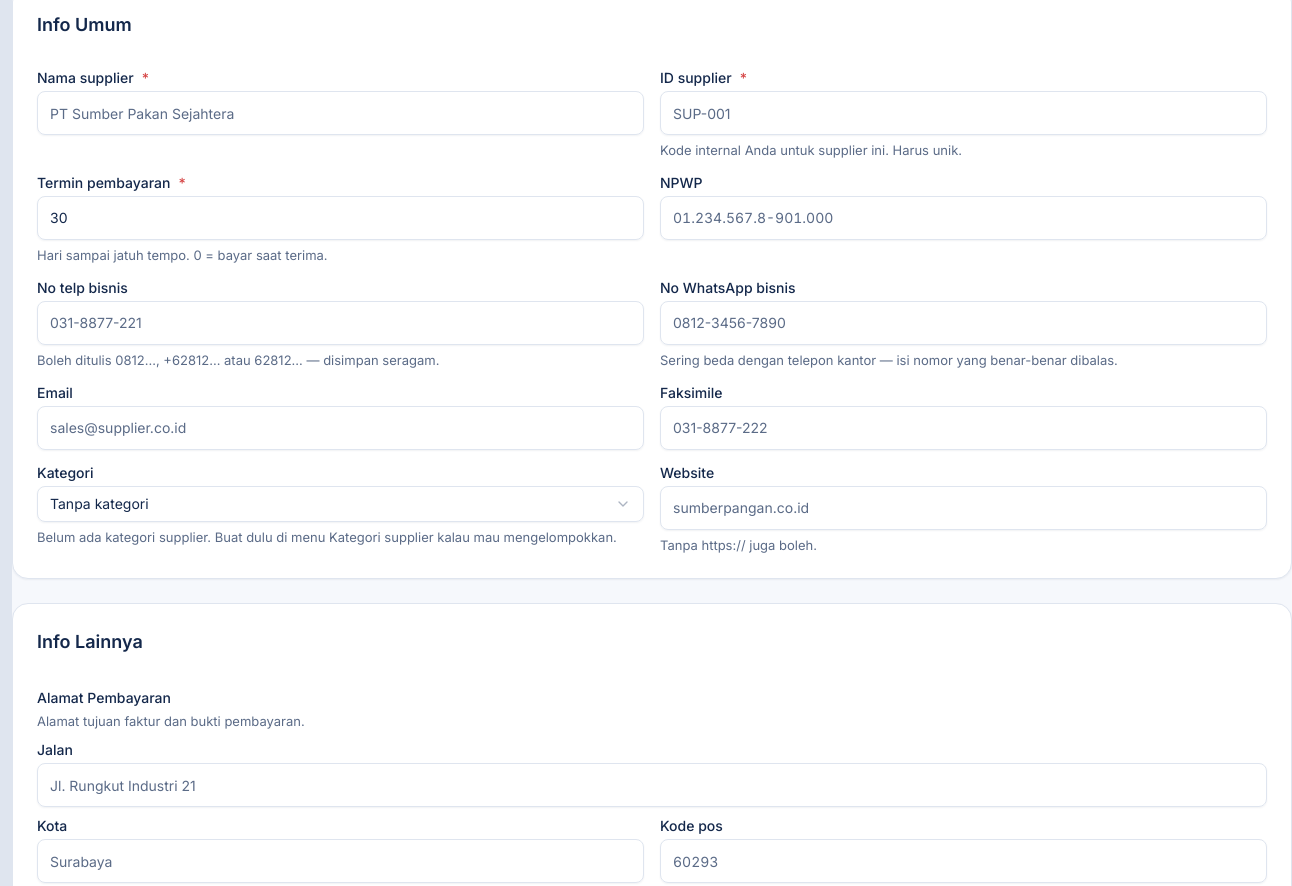
SupplierCreateForm › refuses to submit without an ID supplier
This screenshot has width=1292, height=886.
Note: Name only — the ID is deliberately left blank.
Type "PT Sumber" into the field labelled "Nama supplier *" at (340, 113), box top-left (37, 91), bottom-right (644, 135)
(page scrolled)
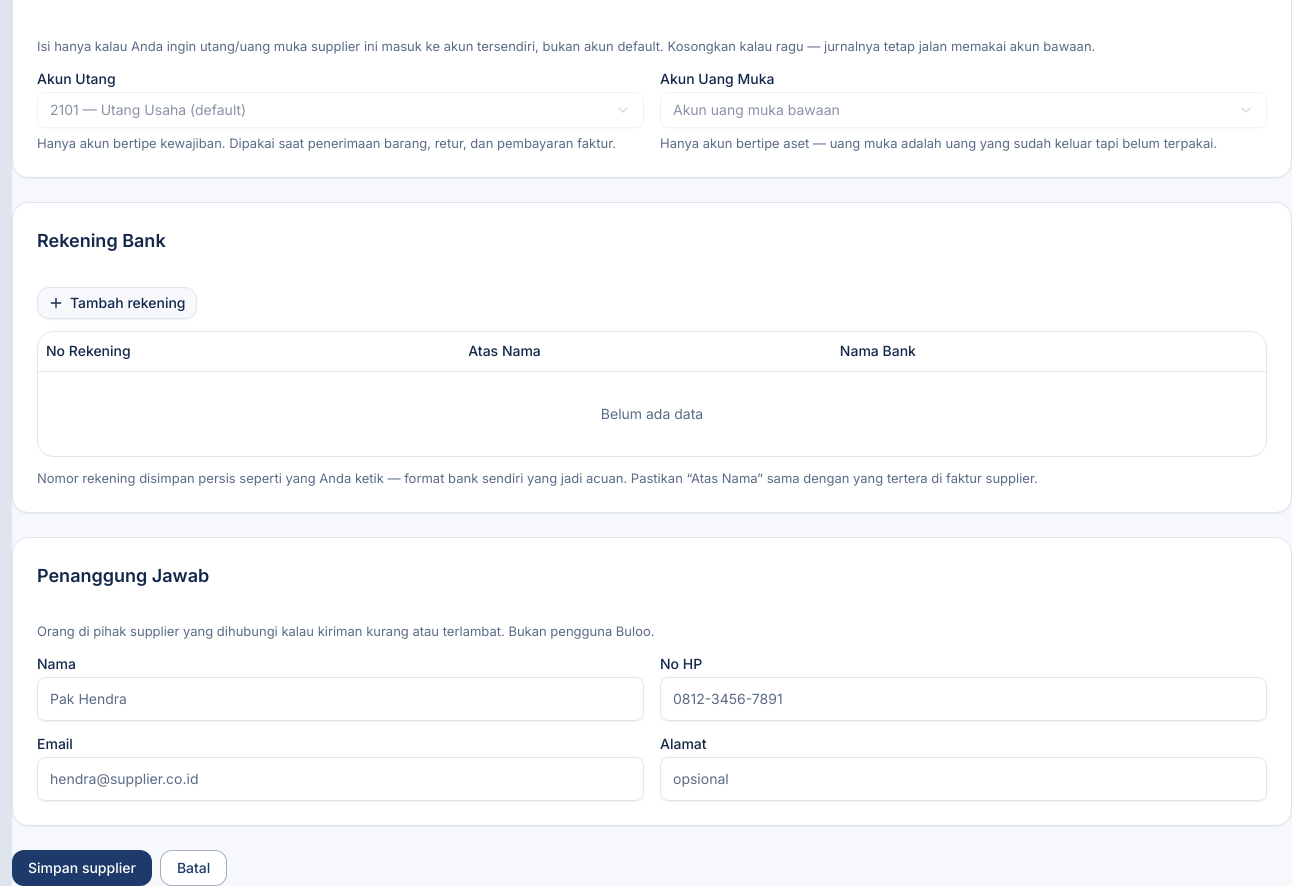
Click the button "Simpan supplier" at (82, 868), box top-left (12, 850), bottom-right (152, 885)
(page scrolled)
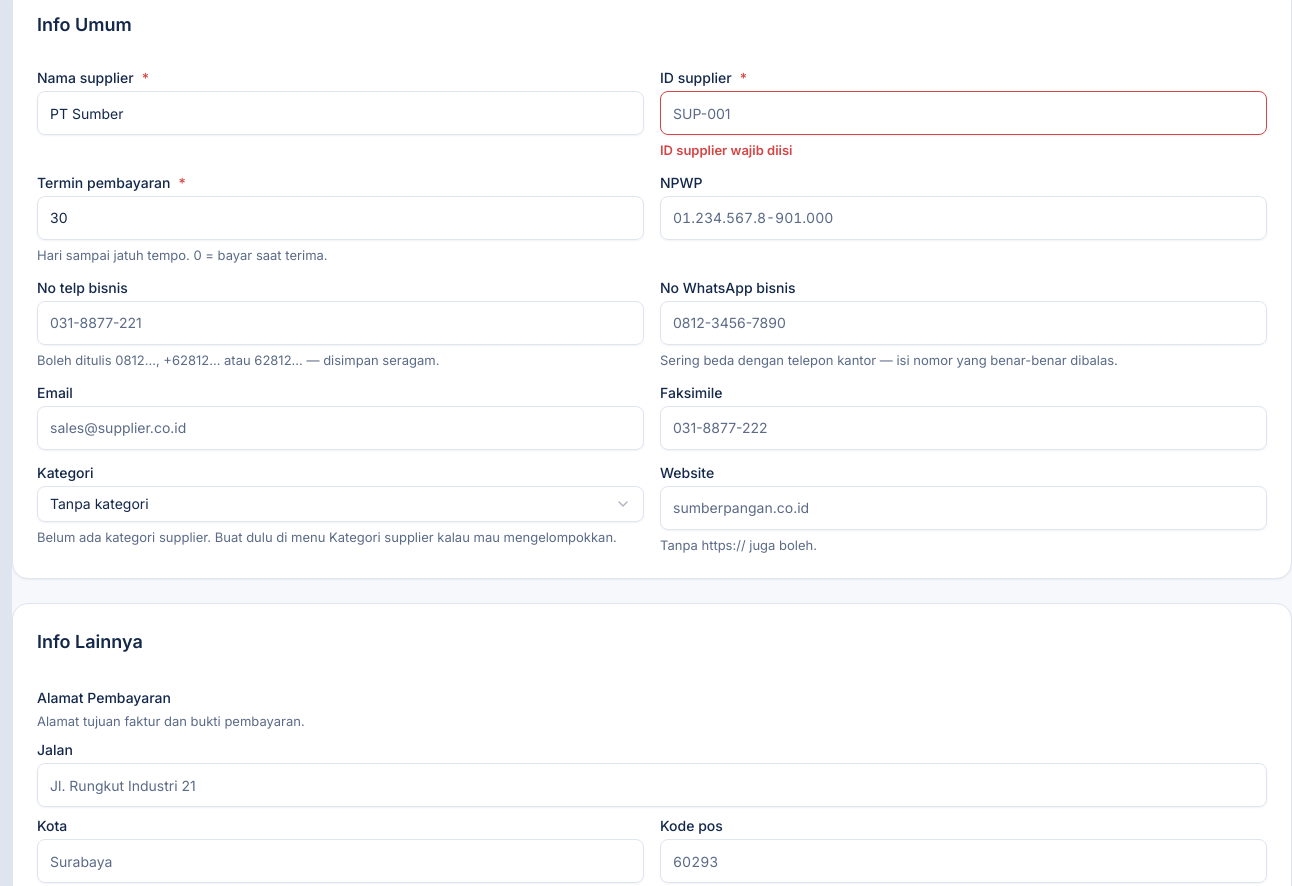
Now the text "ID supplier wajib diisi" is shown, box top-left (660, 142), bottom-right (792, 158)
